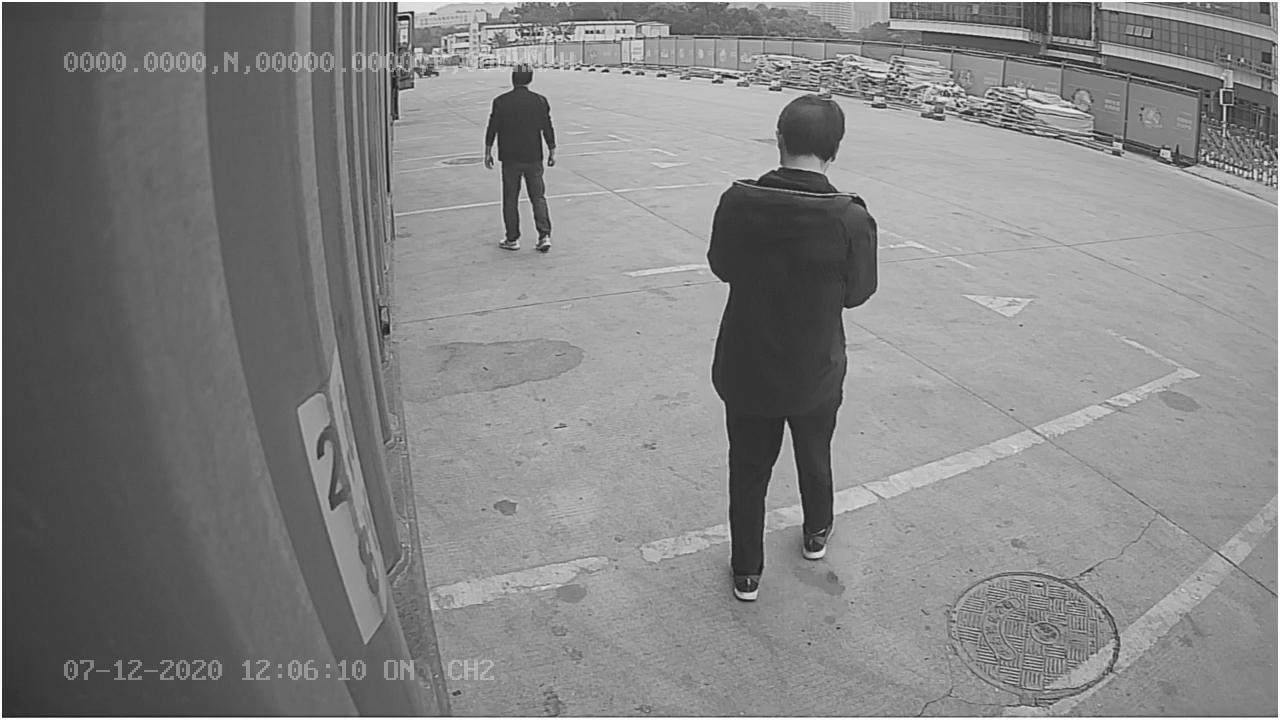person: (707, 92, 885, 609)
